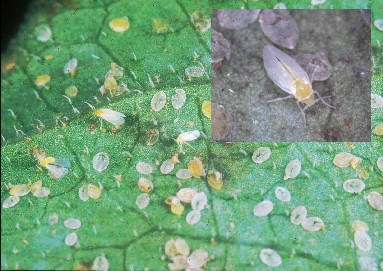whitefly: (261, 45, 334, 123), (92, 105, 127, 130)
